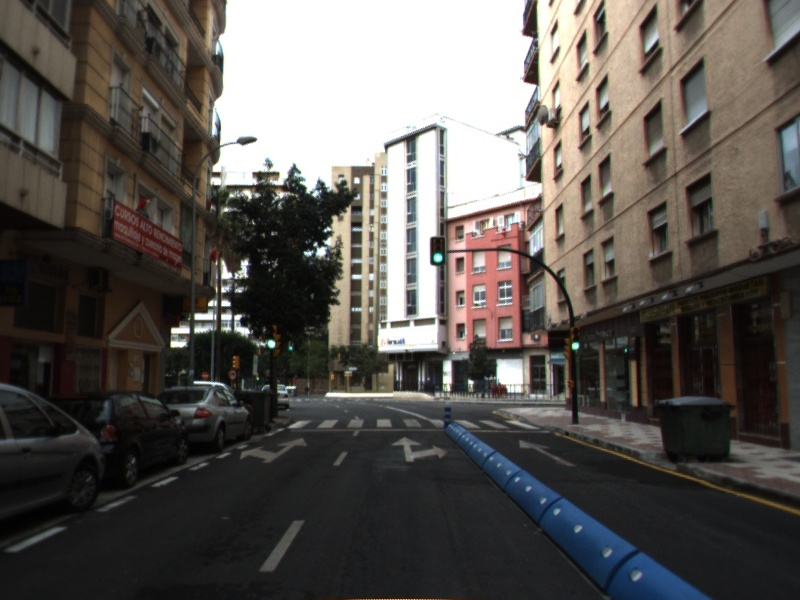STRAIGHT: (516, 437, 580, 468)
STRAIGHT_LEFT: (238, 436, 310, 465)
STRAIGHT_RIGHT: (389, 434, 450, 464)
